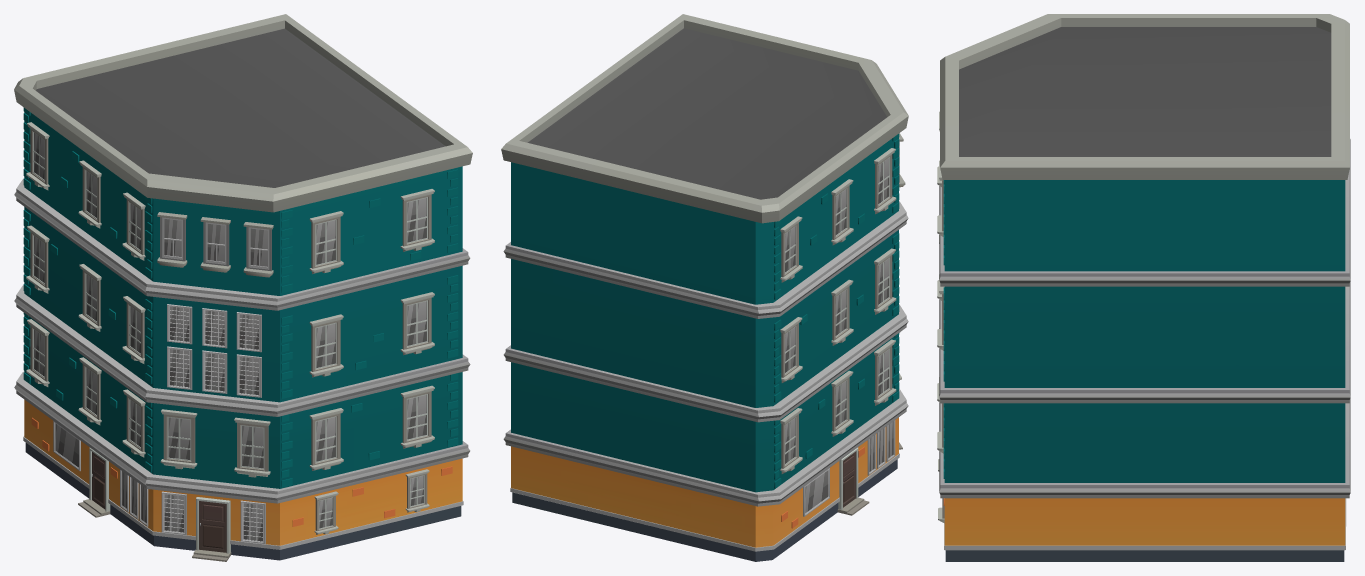
File: Building_25_2_G.fbx
The picture shows the model from 3 angles, left to right: view 1: azimuth 30°, elevation 25°; view 2: azimuth 150°, elevation 25°; view 3: azimuth 270°, elevation 25°; orthographic projection. The views are drawn at different scales.
Visible parts, largest first — view 1: Building_25_2_G; view 2: Building_25_2_G; view 3: Building_25_2_G.
Part boxes in pixels (x1=…): Building_25_2_G: x1=14, y1=14, x2=472, y2=561; Building_25_2_G: x1=501, y1=14, x2=908, y2=561; Building_25_2_G: x1=937, y1=14, x2=1350, y2=561.
Size of the model in its own units: 1291 by 1596 by 1479.
